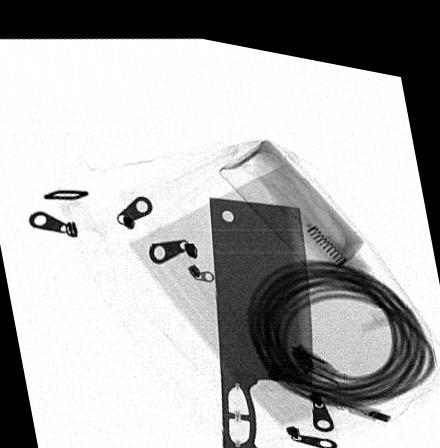Knife: (208, 187, 314, 448)
